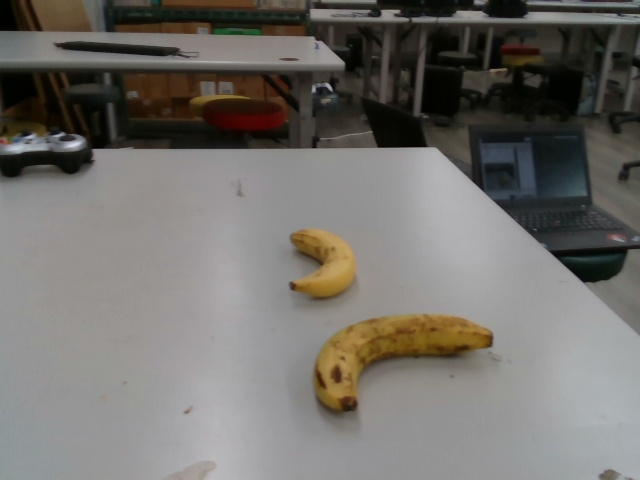banana: (311, 310, 494, 414), (288, 226, 357, 302)
